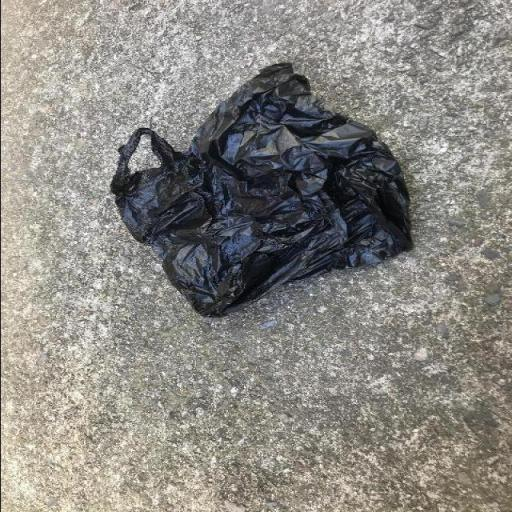plastic-bag: (105, 59, 417, 320)
